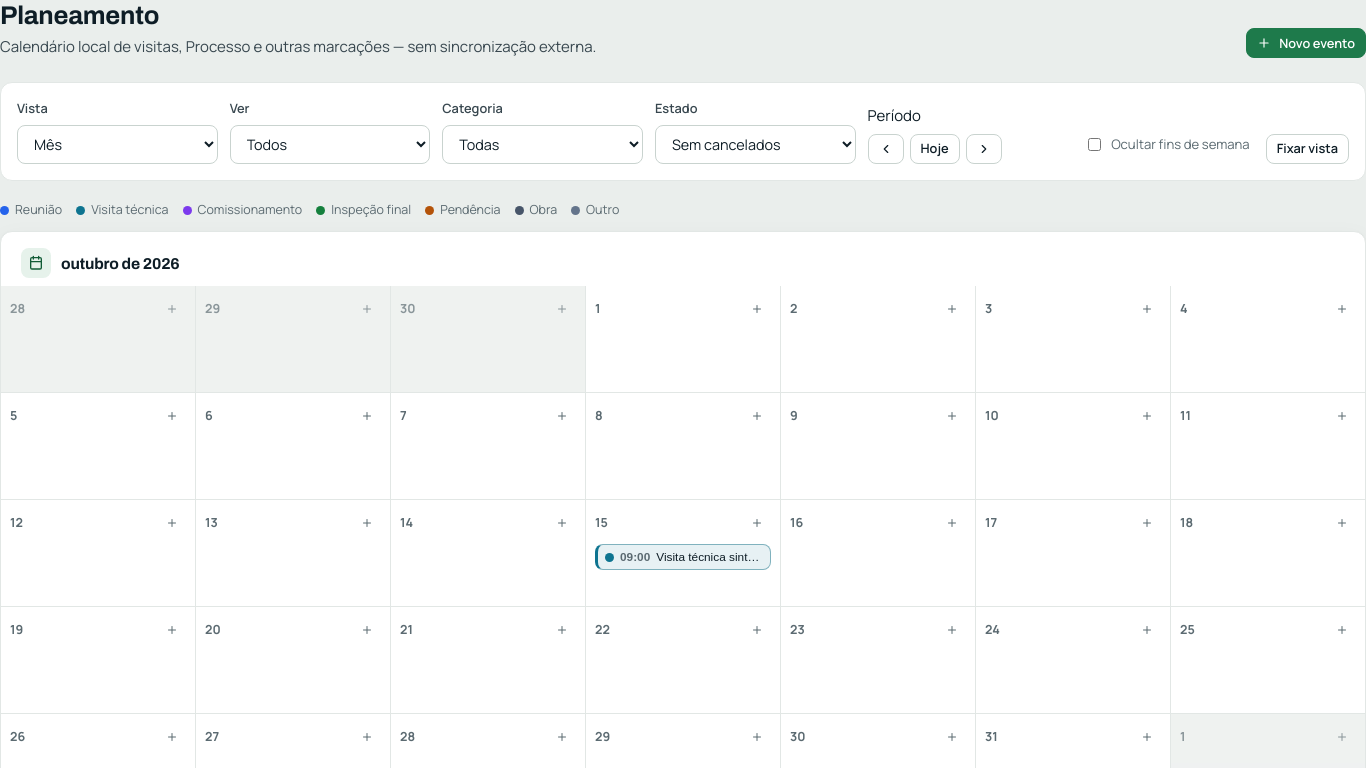
Test: Planeamento › não envia uma pesquisa fantasma como projeto e permite limpar explicitamente
Expected: the text "Visita técnica sintética" is shown, top-left (656, 550), bottom-right (763, 564)
Select "Por projeto" in the dropdown labelled "Ver" at [330, 144], box top-left (230, 125), bottom-right (430, 164)
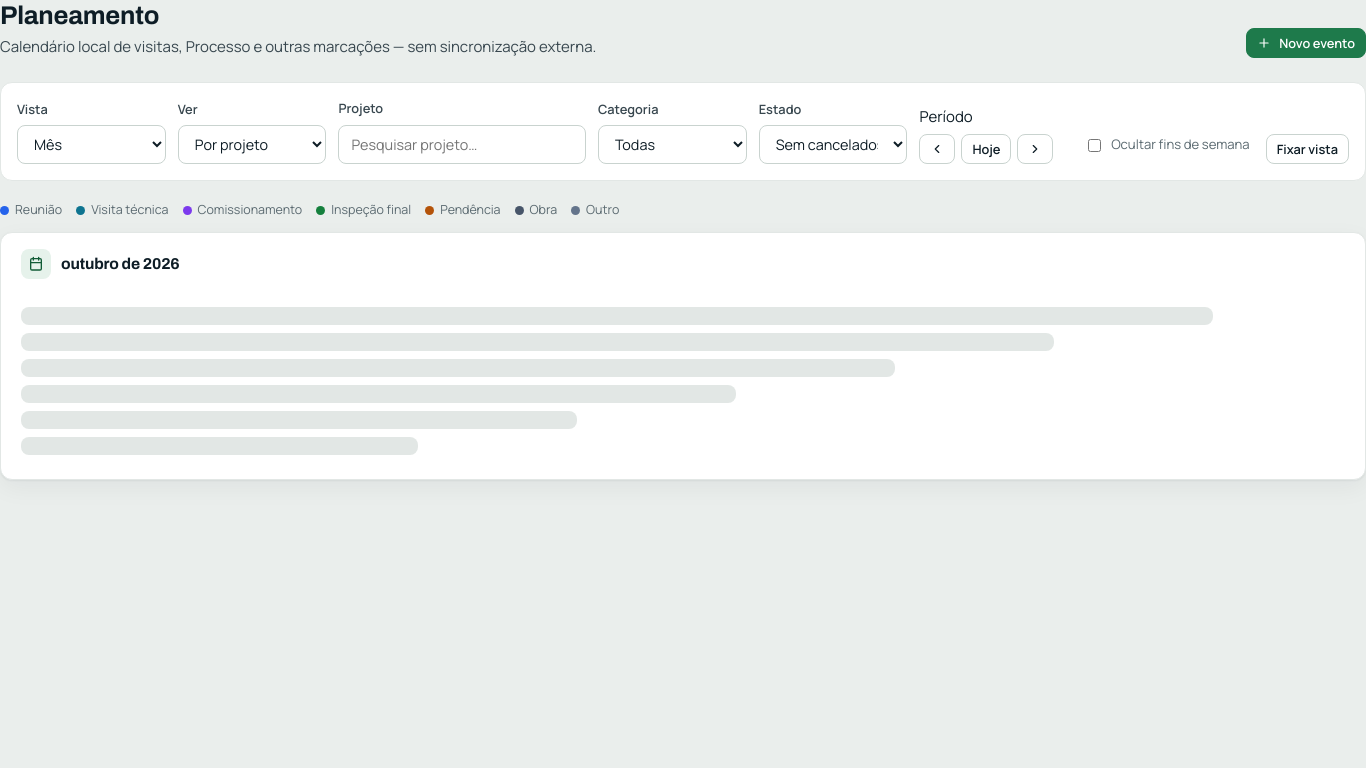
Type "projeto que não existe" into the dropdown labelled "Projeto" at [462, 144], box top-left (338, 125), bottom-right (586, 164)
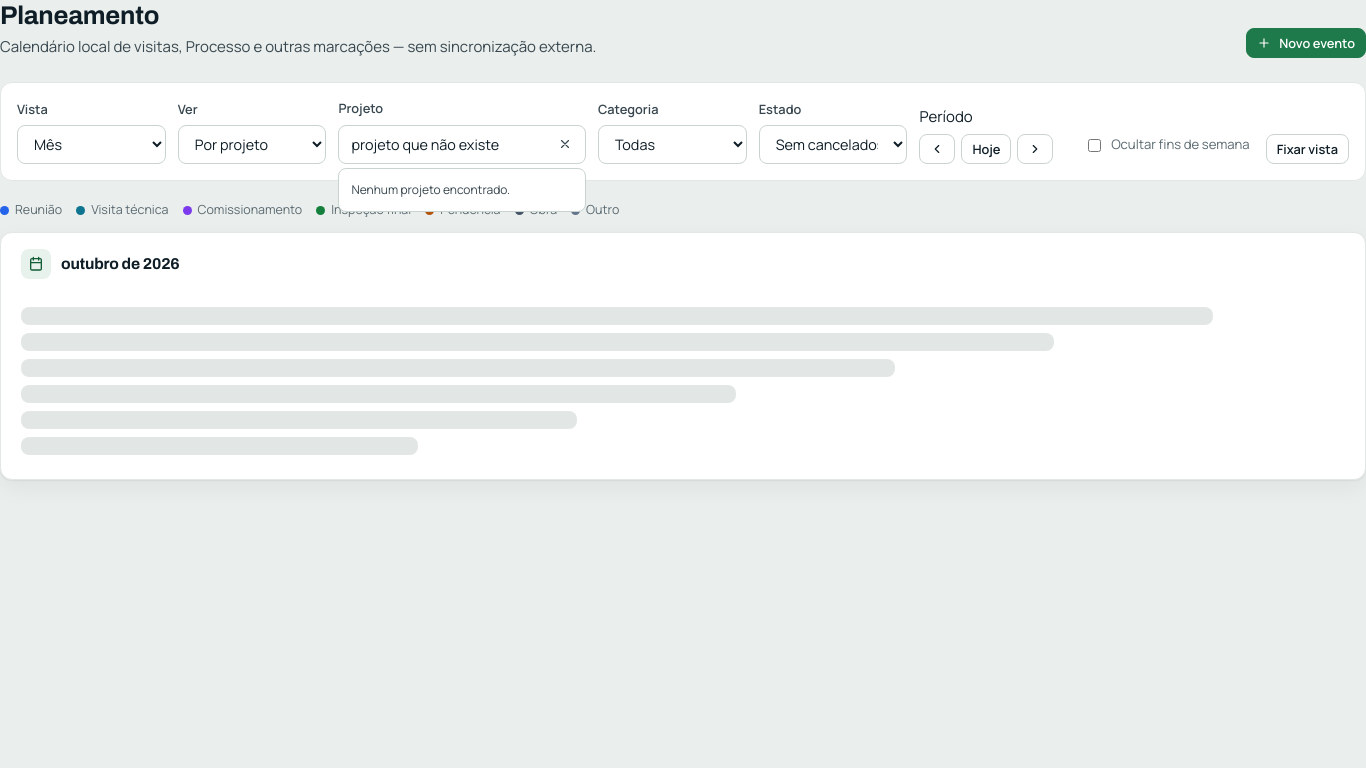
Click the button named "Limpar Projeto" at [565, 144], box top-left (552, 132), bottom-right (578, 158)
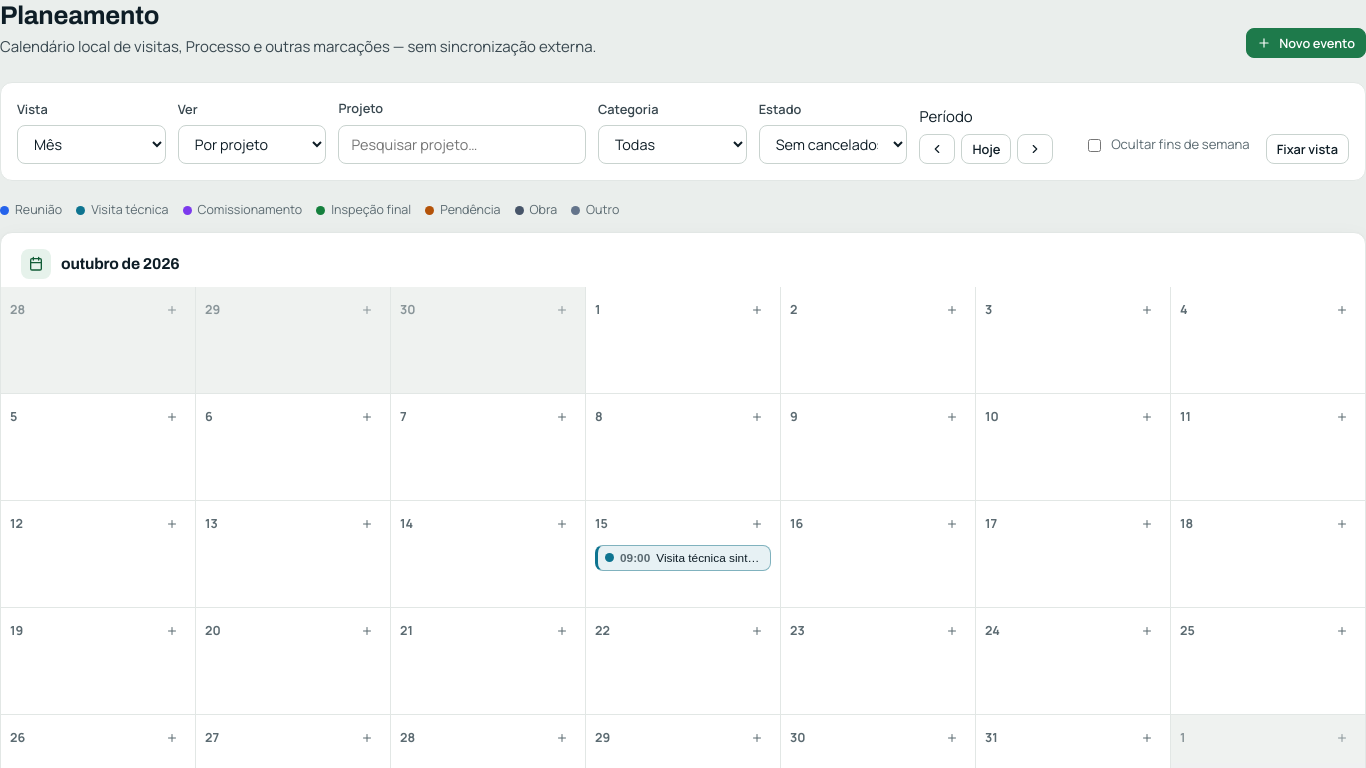
Expected: the dropdown labelled "Projeto" is empty, top-left (338, 125), bottom-right (586, 164)
